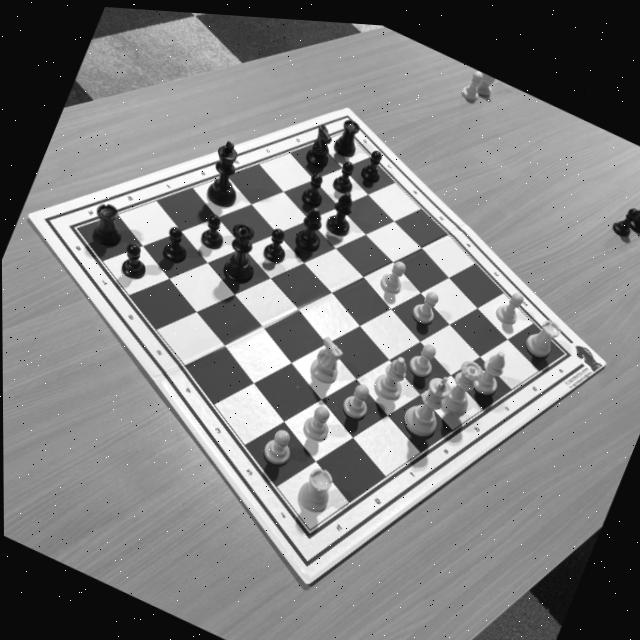chessboard: (73, 127, 565, 531)
